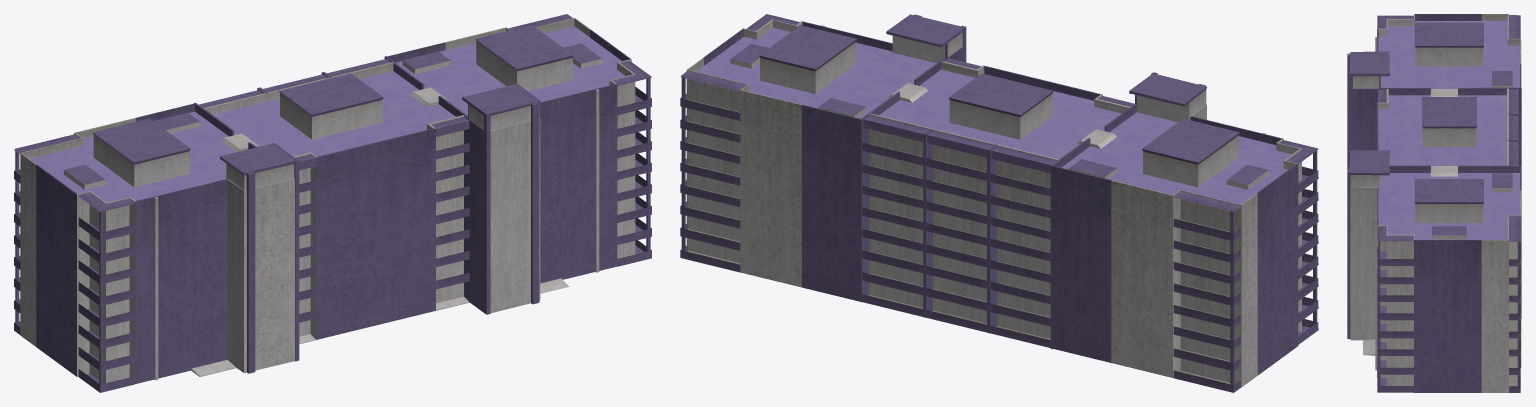
Rendered from ORB_6_Combi_S7_Detail_3.fbx.
The picture shows the model from 3 angles, left to right: view 1: azimuth 30°, elevation 25°; view 2: azimuth 150°, elevation 25°; view 3: azimuth 270°, elevation 25°; orthographic projection. The views are drawn at different scales.
Visible parts, largest first — view 1: ORB_6_Combi_S7_Detail_3; view 2: ORB_6_Combi_S7_Detail_3; view 3: ORB_6_Combi_S7_Detail_3.
Part boxes in pixels (x1,y1,x2,y2): ORB_6_Combi_S7_Detail_3: (14,14,651,392); ORB_6_Combi_S7_Detail_3: (680,14,1318,392); ORB_6_Combi_S7_Detail_3: (1347,14,1521,392).
Bounding box in the file's own units: 7828 × 2710 × 2542.
